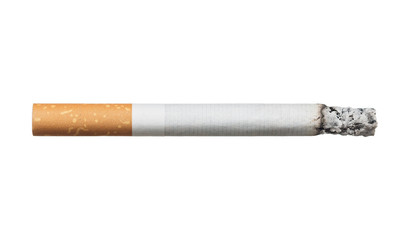cigarette: (25, 99, 381, 141)
